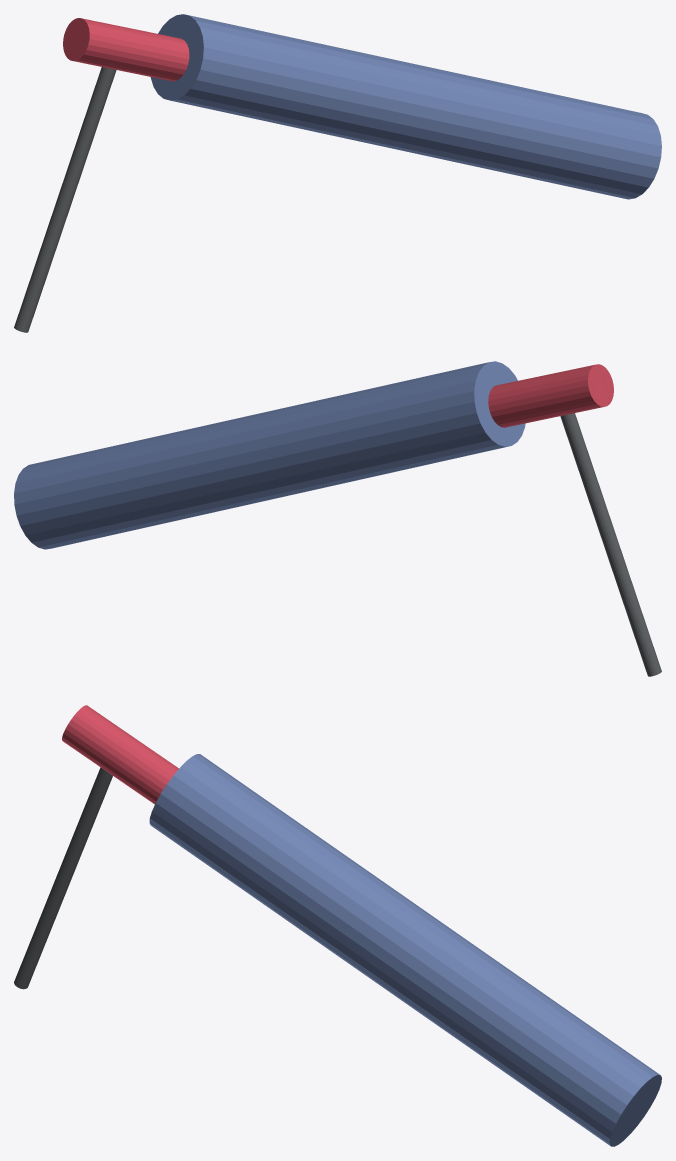
File: electrodeHolder.glb
3 renders of one model, top to bottom at view 1: azimuth 30°, elevation 25°; view 2: azimuth 150°, elevation 25°; view 3: azimuth 330°, elevation 25°, orthographic.
Visible parts, largest first — view 1: Mesh_Mesh_head_geo.001_lambert2SG.001; view 2: Mesh_Mesh_head_geo.001_lambert2SG.001; view 3: Mesh_Mesh_head_geo.001_lambert2SG.001.
Part boxes in pixels (x1,y1,x2,y2): Mesh_Mesh_head_geo.001_lambert2SG.001: (14,14,661,332); Mesh_Mesh_head_geo.001_lambert2SG.001: (14,361,661,676); Mesh_Mesh_head_geo.001_lambert2SG.001: (14,705,661,1146).
Bounding box in the file's own units: 24.48 × 11.4 × 3.12.
